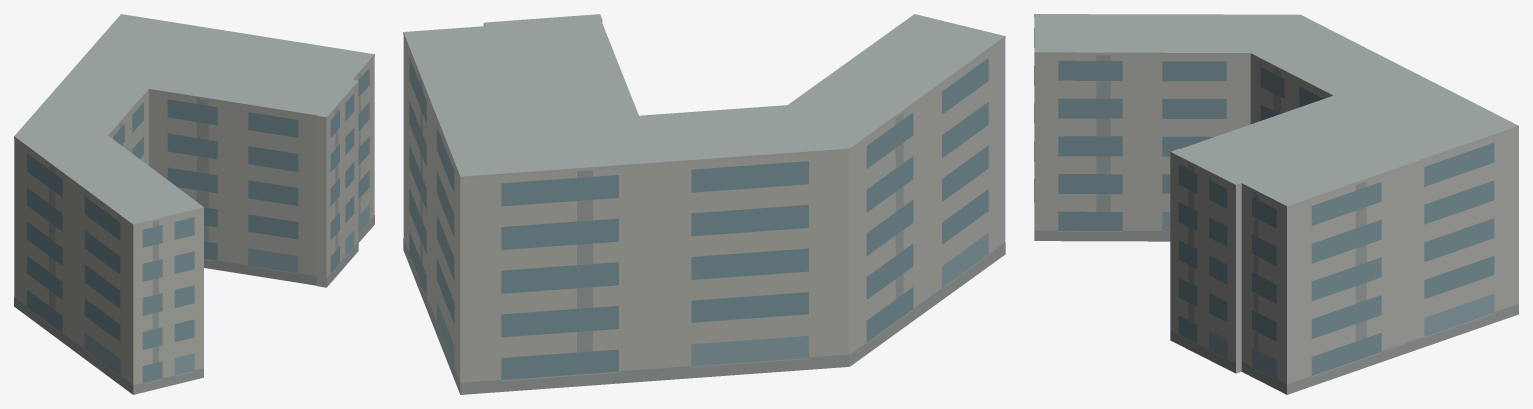
Rendered from survey-upis-33023999.glb.
3 renders of one model, left to right at view 1: azimuth 30°, elevation 25°; view 2: azimuth 150°, elevation 25°; view 3: azimuth 270°, elevation 25°, orthographic. The views are drawn at different scales.
Visible parts, largest first — view 1: survey-upis-33023999.tmp; view 2: survey-upis-33023999.tmp; view 3: survey-upis-33023999.tmp.
Boxes of the visible parts, x1,y1,x2,y2 form: survey-upis-33023999.tmp: (14, 14, 374, 394); survey-upis-33023999.tmp: (403, 14, 1005, 394); survey-upis-33023999.tmp: (1034, 14, 1518, 394).
Size of the model in its own units: 38.31 by 17.53 by 40.82.
